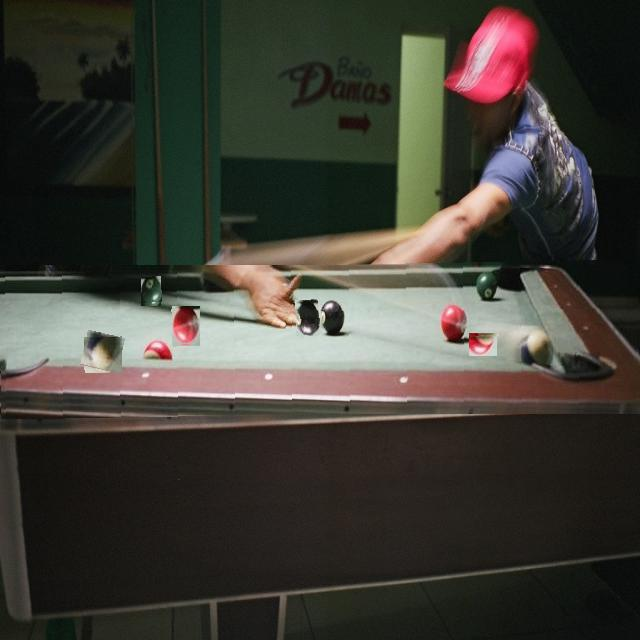Ball: (82, 332, 124, 371), (172, 306, 200, 344), (295, 300, 320, 336), (470, 336, 500, 356), (142, 277, 162, 303)
Billiard table: (0, 262, 640, 416)
